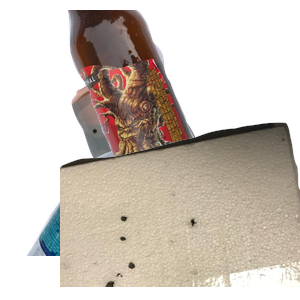glass: (65, 10, 300, 190)
metal: (69, 58, 300, 238)
plastic: (24, 120, 182, 300)
trash: (60, 120, 300, 300)
